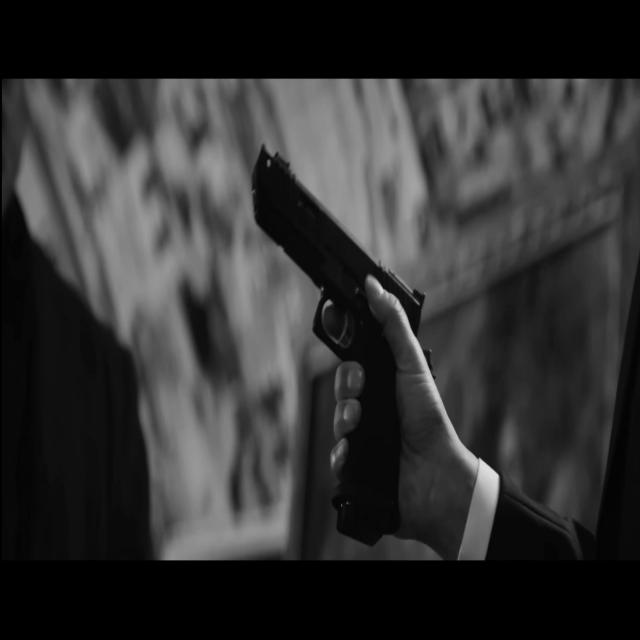weapons: (247, 122, 428, 562)
